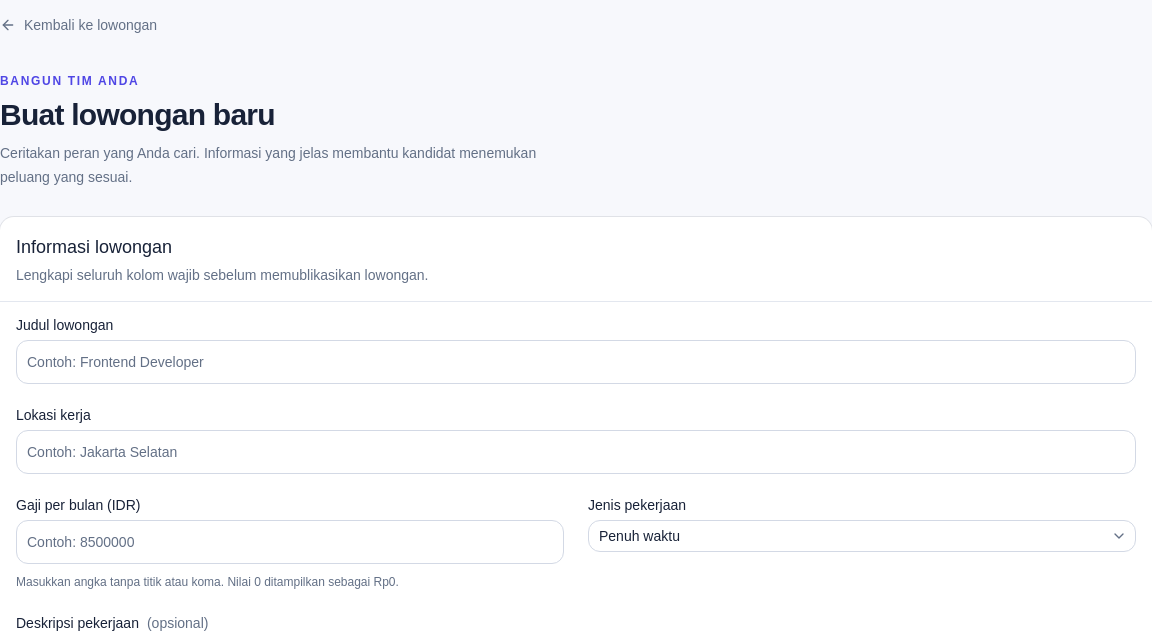
Test case: create job completion › refreshes jobs and navigates after a successful active submission
Type "Frontend Developer" into the field labelled "Judul lowongan". click: (576, 362)
box: x1=16 y1=340 x2=1136 y2=384
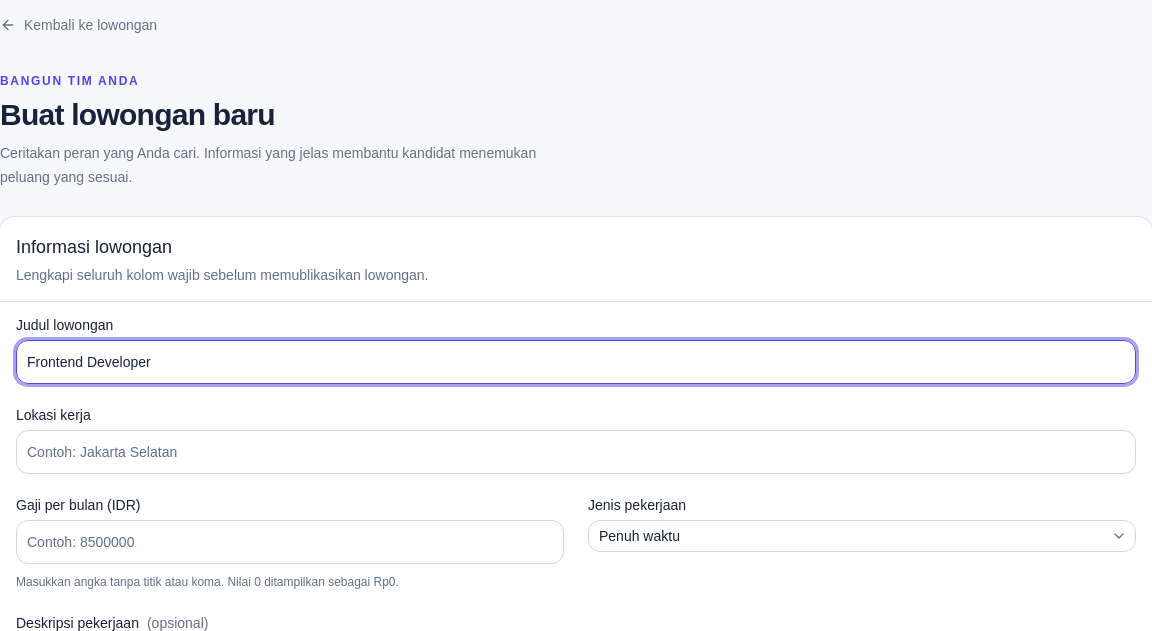
Type "Jakarta" into the field labelled "Lokasi kerja". click: (576, 452)
box: x1=16 y1=430 x2=1136 y2=474
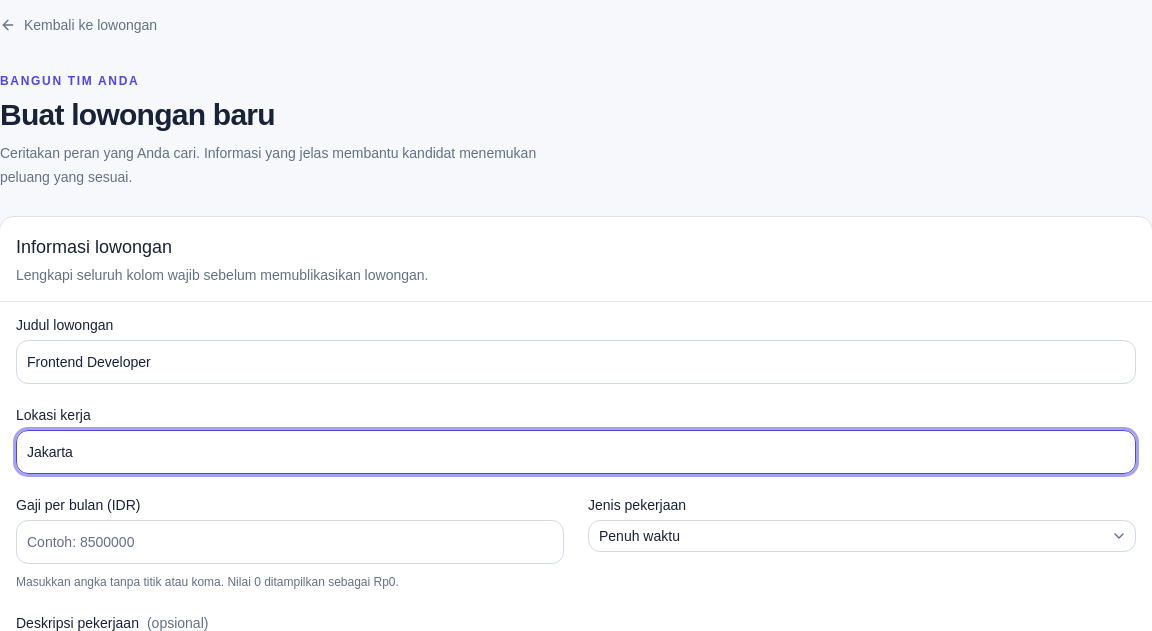
Type "8500000" into the number field labelled "Gaji per bulan (IDR)". click: (290, 542)
box: x1=16 y1=520 x2=564 y2=564
(page scrolled)
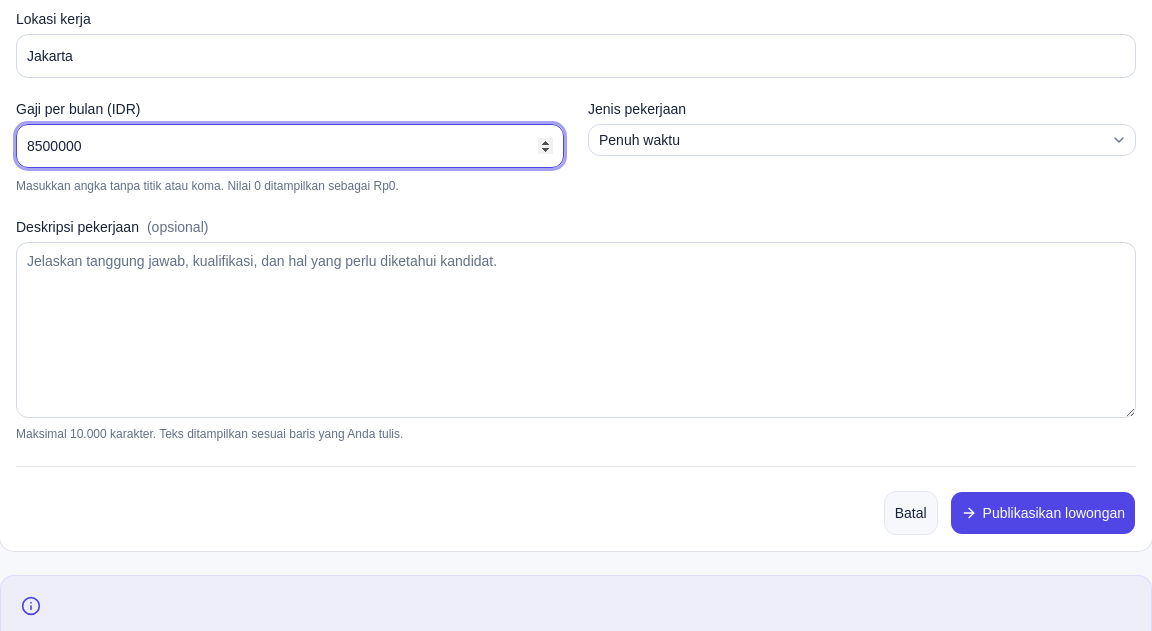
Click the button "Publikasikan lowongan". click: (1043, 513)
box: x1=950 y1=491 x2=1136 y2=535
(page scrolled)
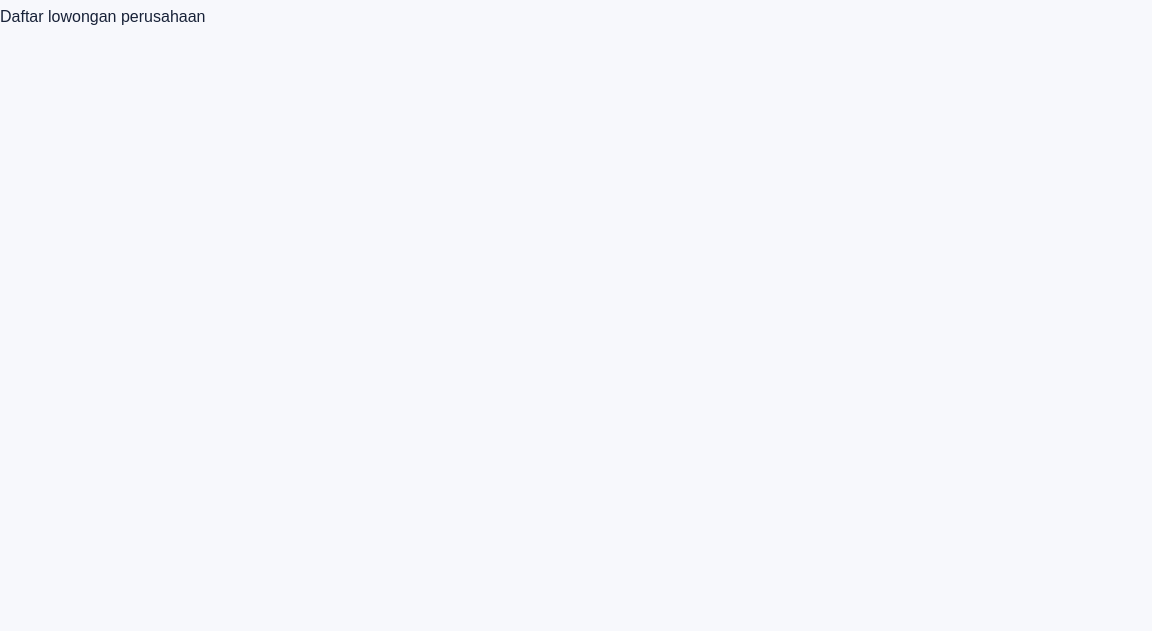
Check: the heading "Daftar lowongan perusahaan" is shown, box x1=0 y1=8 x2=206 y2=25
